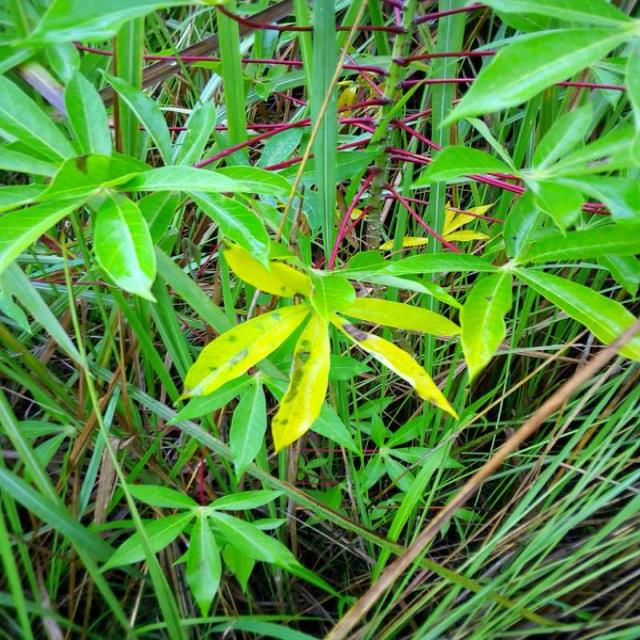cassava leaf: (178, 240, 462, 454), (93, 190, 158, 303)
